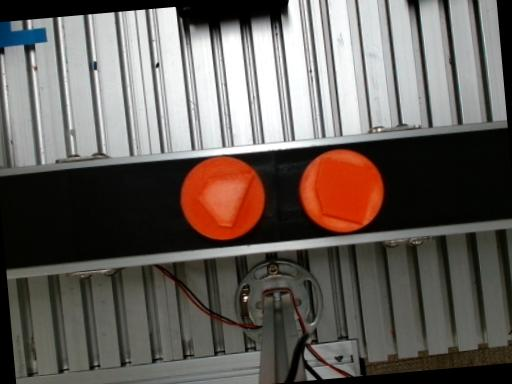Not_Square: (314, 158, 377, 225), (196, 174, 255, 228)
Orange_Waper: (180, 157, 264, 239), (299, 150, 382, 232)
